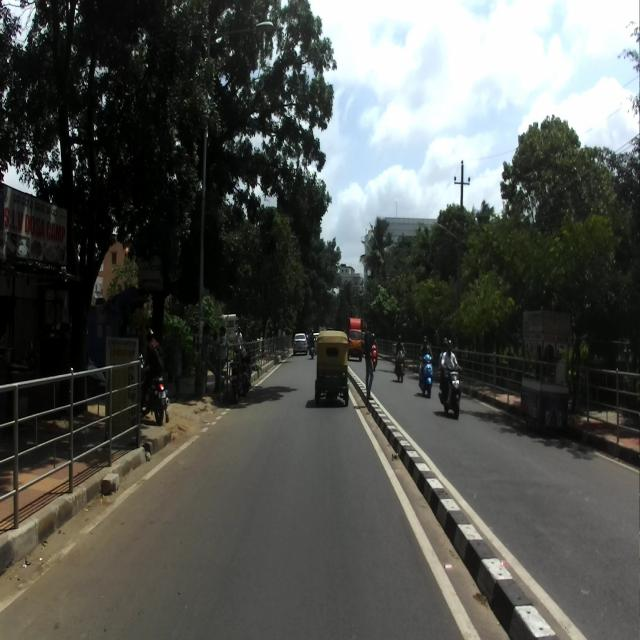motorcycle_bajaj: (140, 352, 170, 426)
